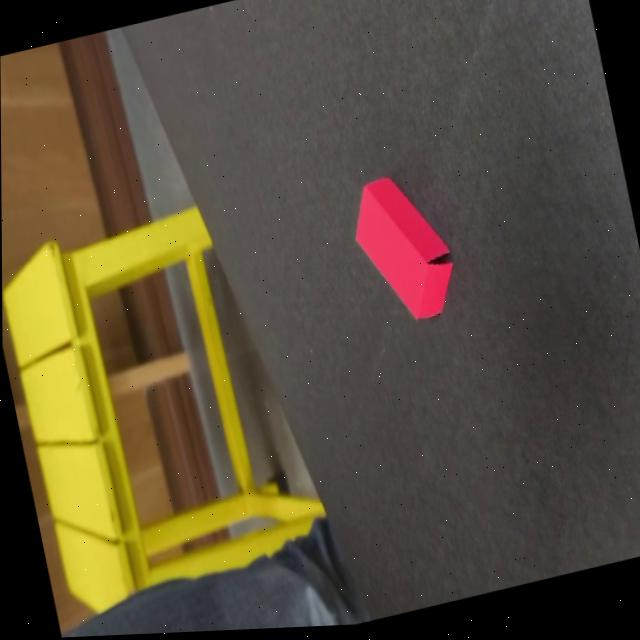red block: (343, 165, 463, 335)
